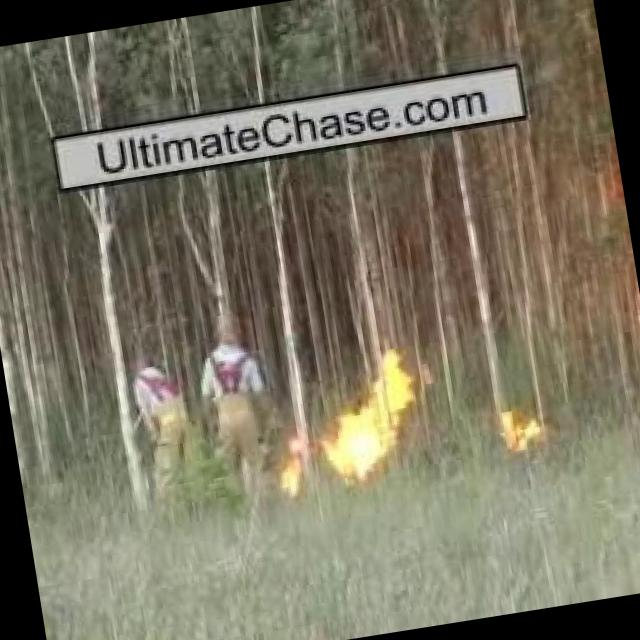Smoke: (306, 329, 438, 486), (270, 424, 324, 502), (492, 400, 550, 464)
